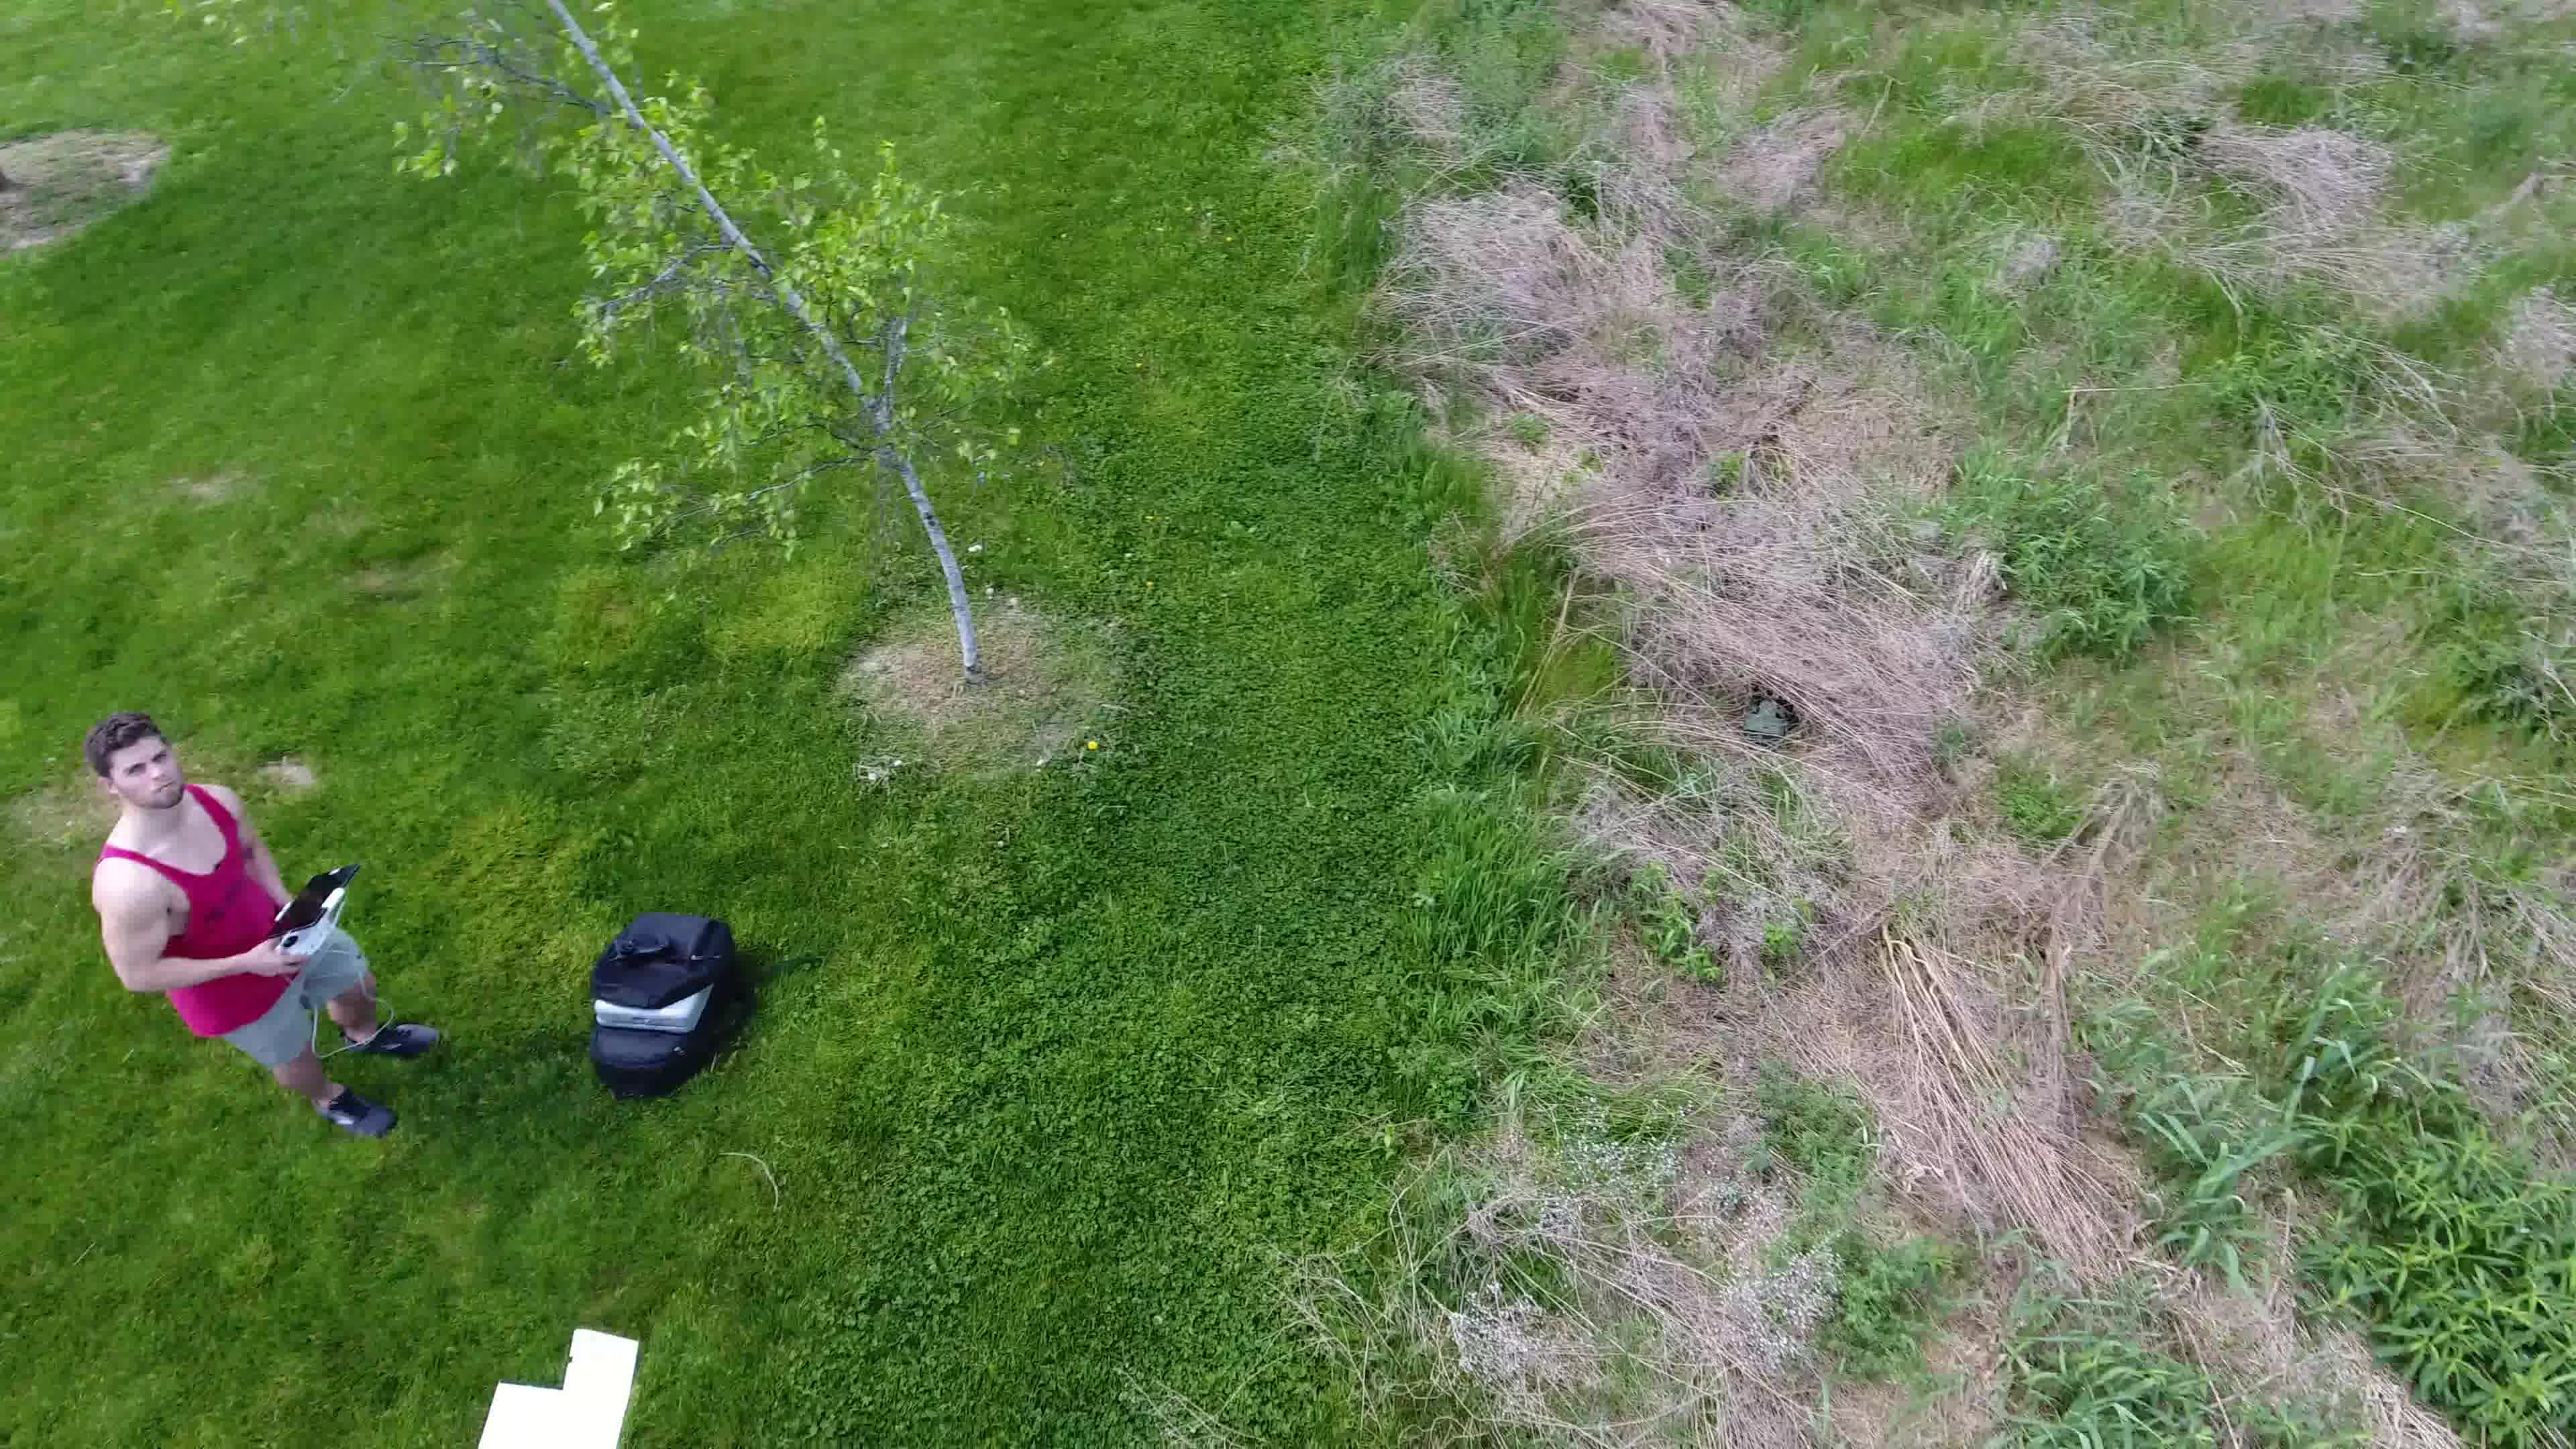transporter9: (1737, 694, 1794, 738)
